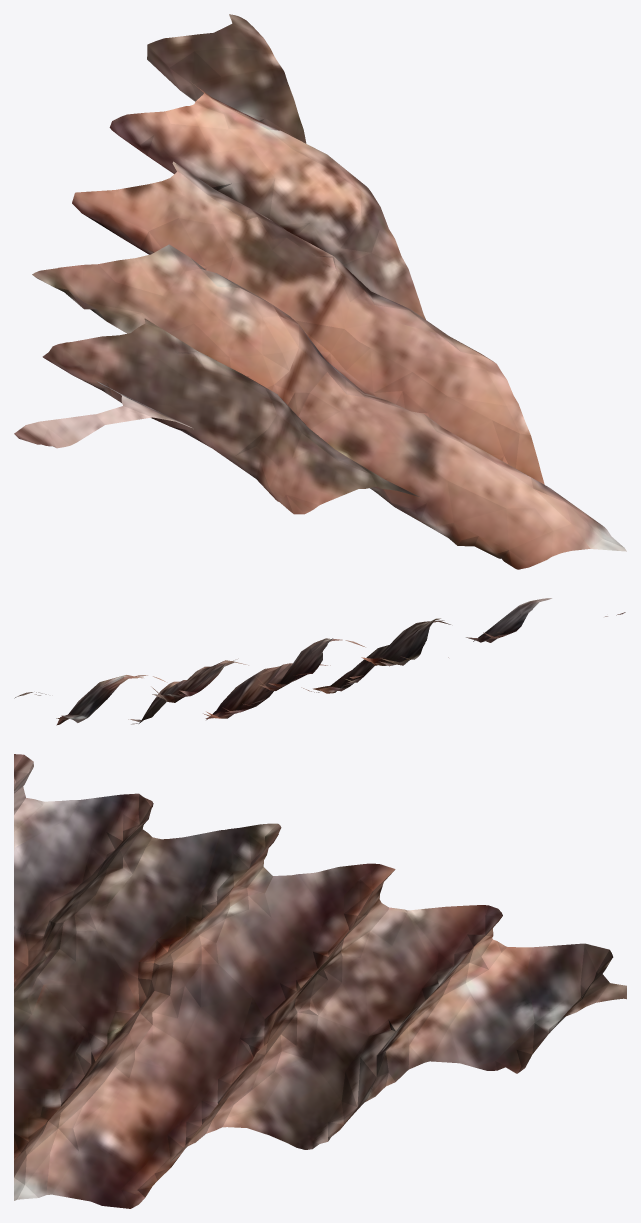
The picture shows the model from 3 angles, top to bottom: view 1: azimuth 30°, elevation 25°; view 2: azimuth 150°, elevation 25°; view 3: azimuth 270°, elevation 25°; orthographic projection. The views are drawn at different scales.
Size of the model in its own units: 0.7687 by 0.3271 by 0.8373.
Materials: 2 (2 with a texture image).
